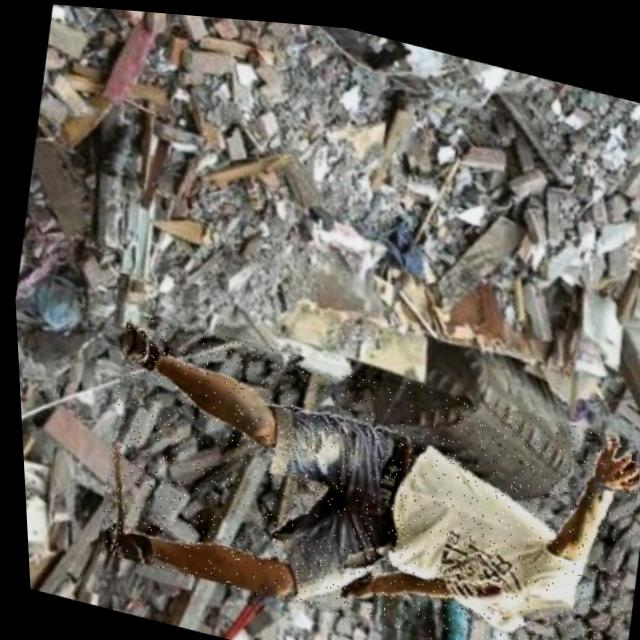Person in Rubble: (80, 306, 640, 640)
